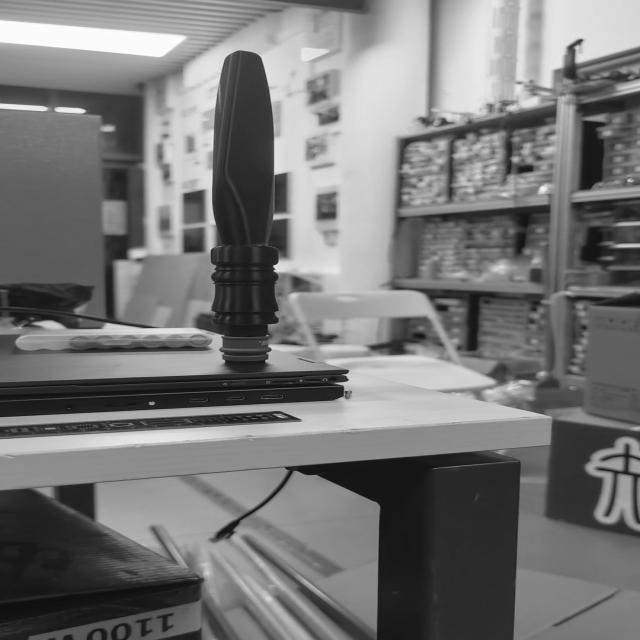base: (218, 333, 274, 362)
